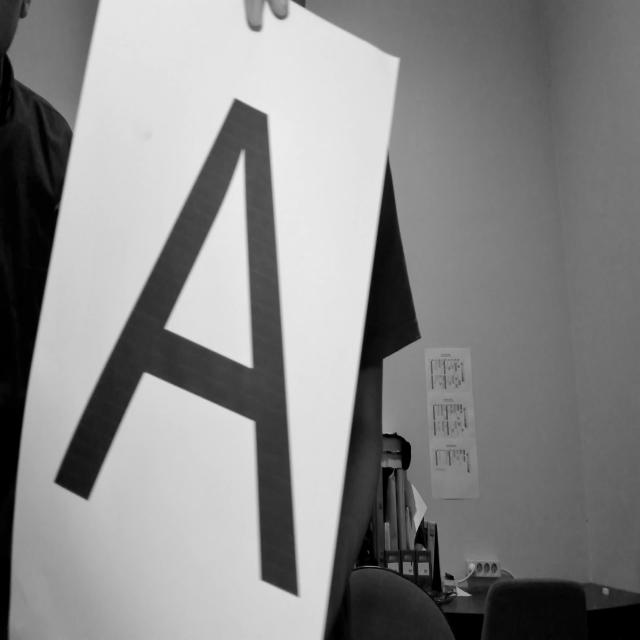a: (43, 77, 331, 614)
